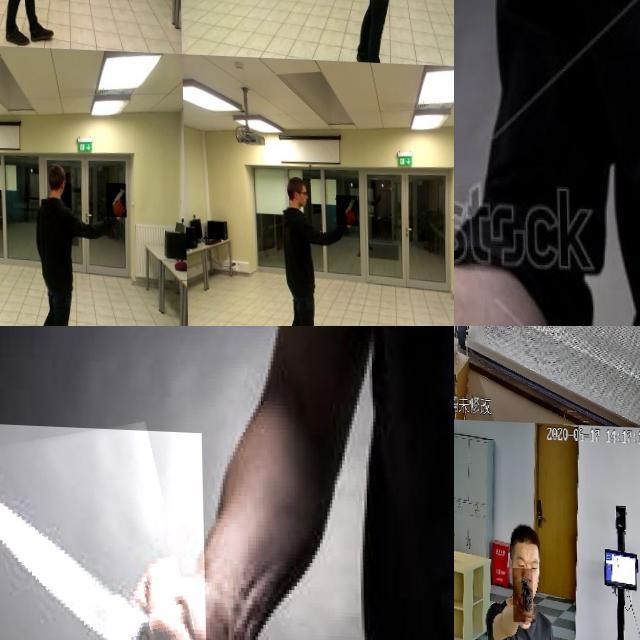-: (454, 0, 598, 326), (0, 421, 207, 640)
gun-knife-thesis - v11 Yolov5 augmented: (485, 326, 567, 377), (510, 566, 531, 621), (104, 180, 124, 216), (334, 191, 356, 221), (425, 0, 447, 17), (51, 0, 71, 13)
